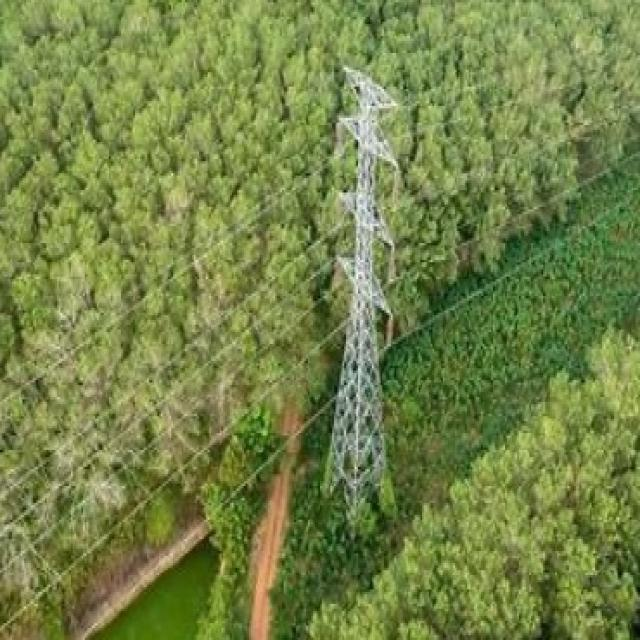utility poles: (319, 50, 412, 528)
